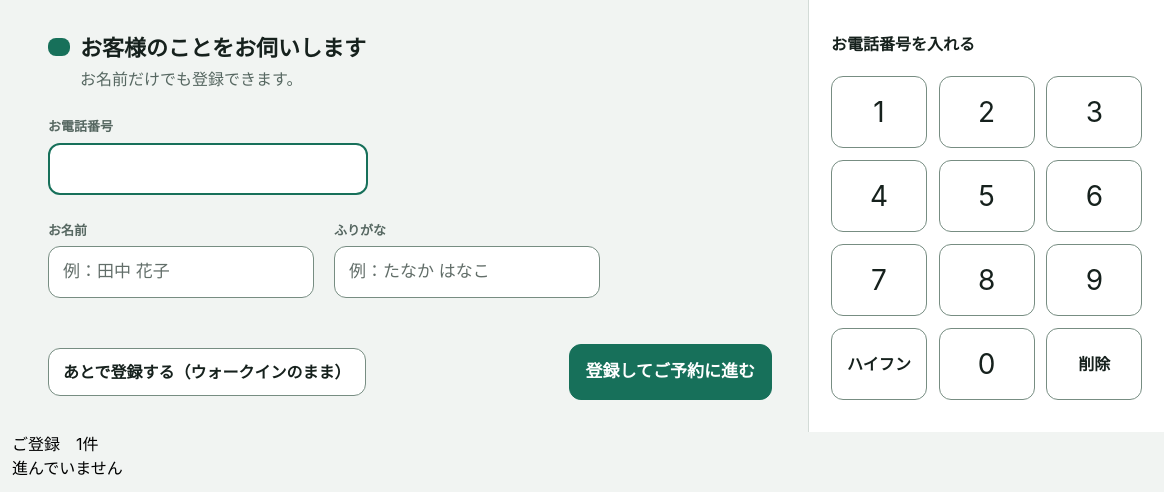
登録 › お名前だけでも登録できる
In the field labelled "お名前": (181, 272) [48, 246, 314, 298], type "山田 太郎"
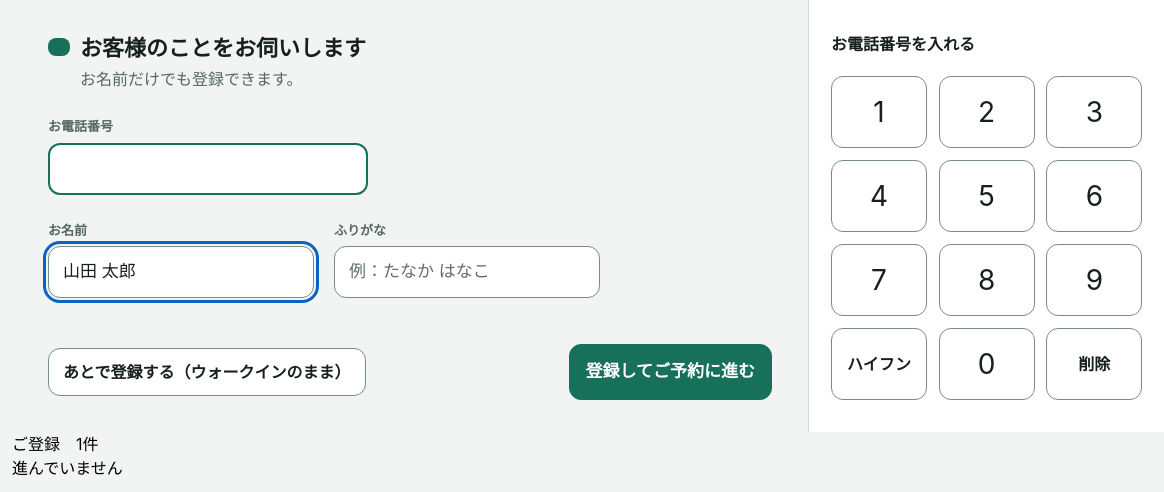
Click the button "登録してご予約に進む": (670, 372) [568, 344, 772, 400]
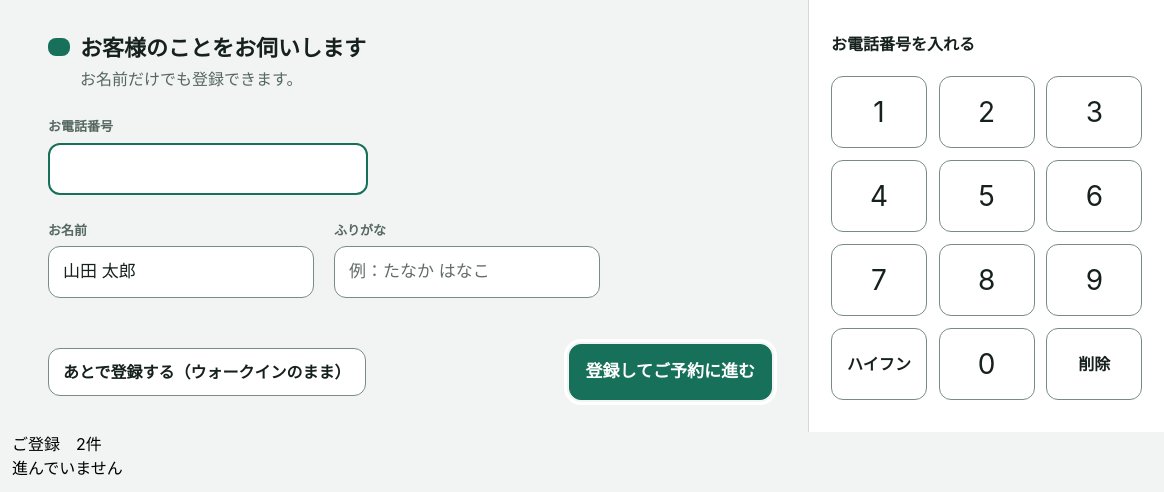
Expected: the field labelled "お電話番号" is empty, [48, 142, 368, 194]
Expected: the text "ご登録 2件" is shown, [12, 434, 102, 454]
